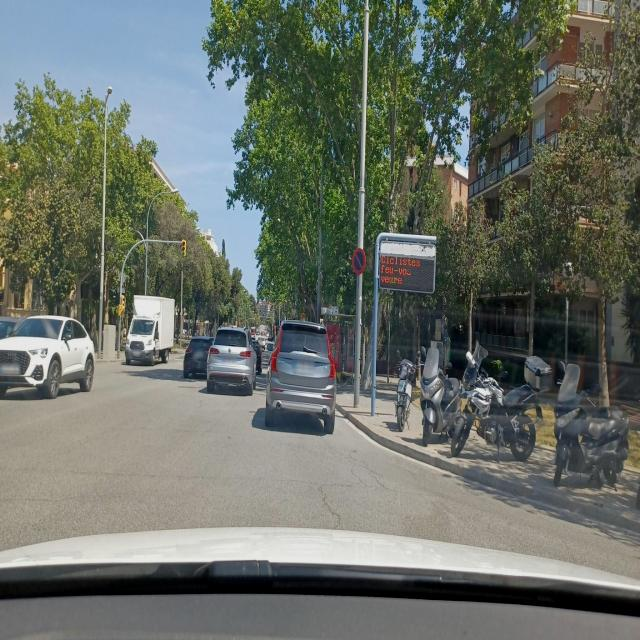bike: (548, 358, 628, 488), (449, 372, 523, 457), (483, 379, 537, 460), (448, 374, 496, 456), (421, 370, 466, 441), (393, 348, 420, 432)
car: (265, 318, 337, 434), (0, 314, 95, 400), (206, 324, 256, 396), (0, 315, 21, 389), (182, 335, 213, 379), (260, 340, 275, 371), (250, 339, 262, 374)
